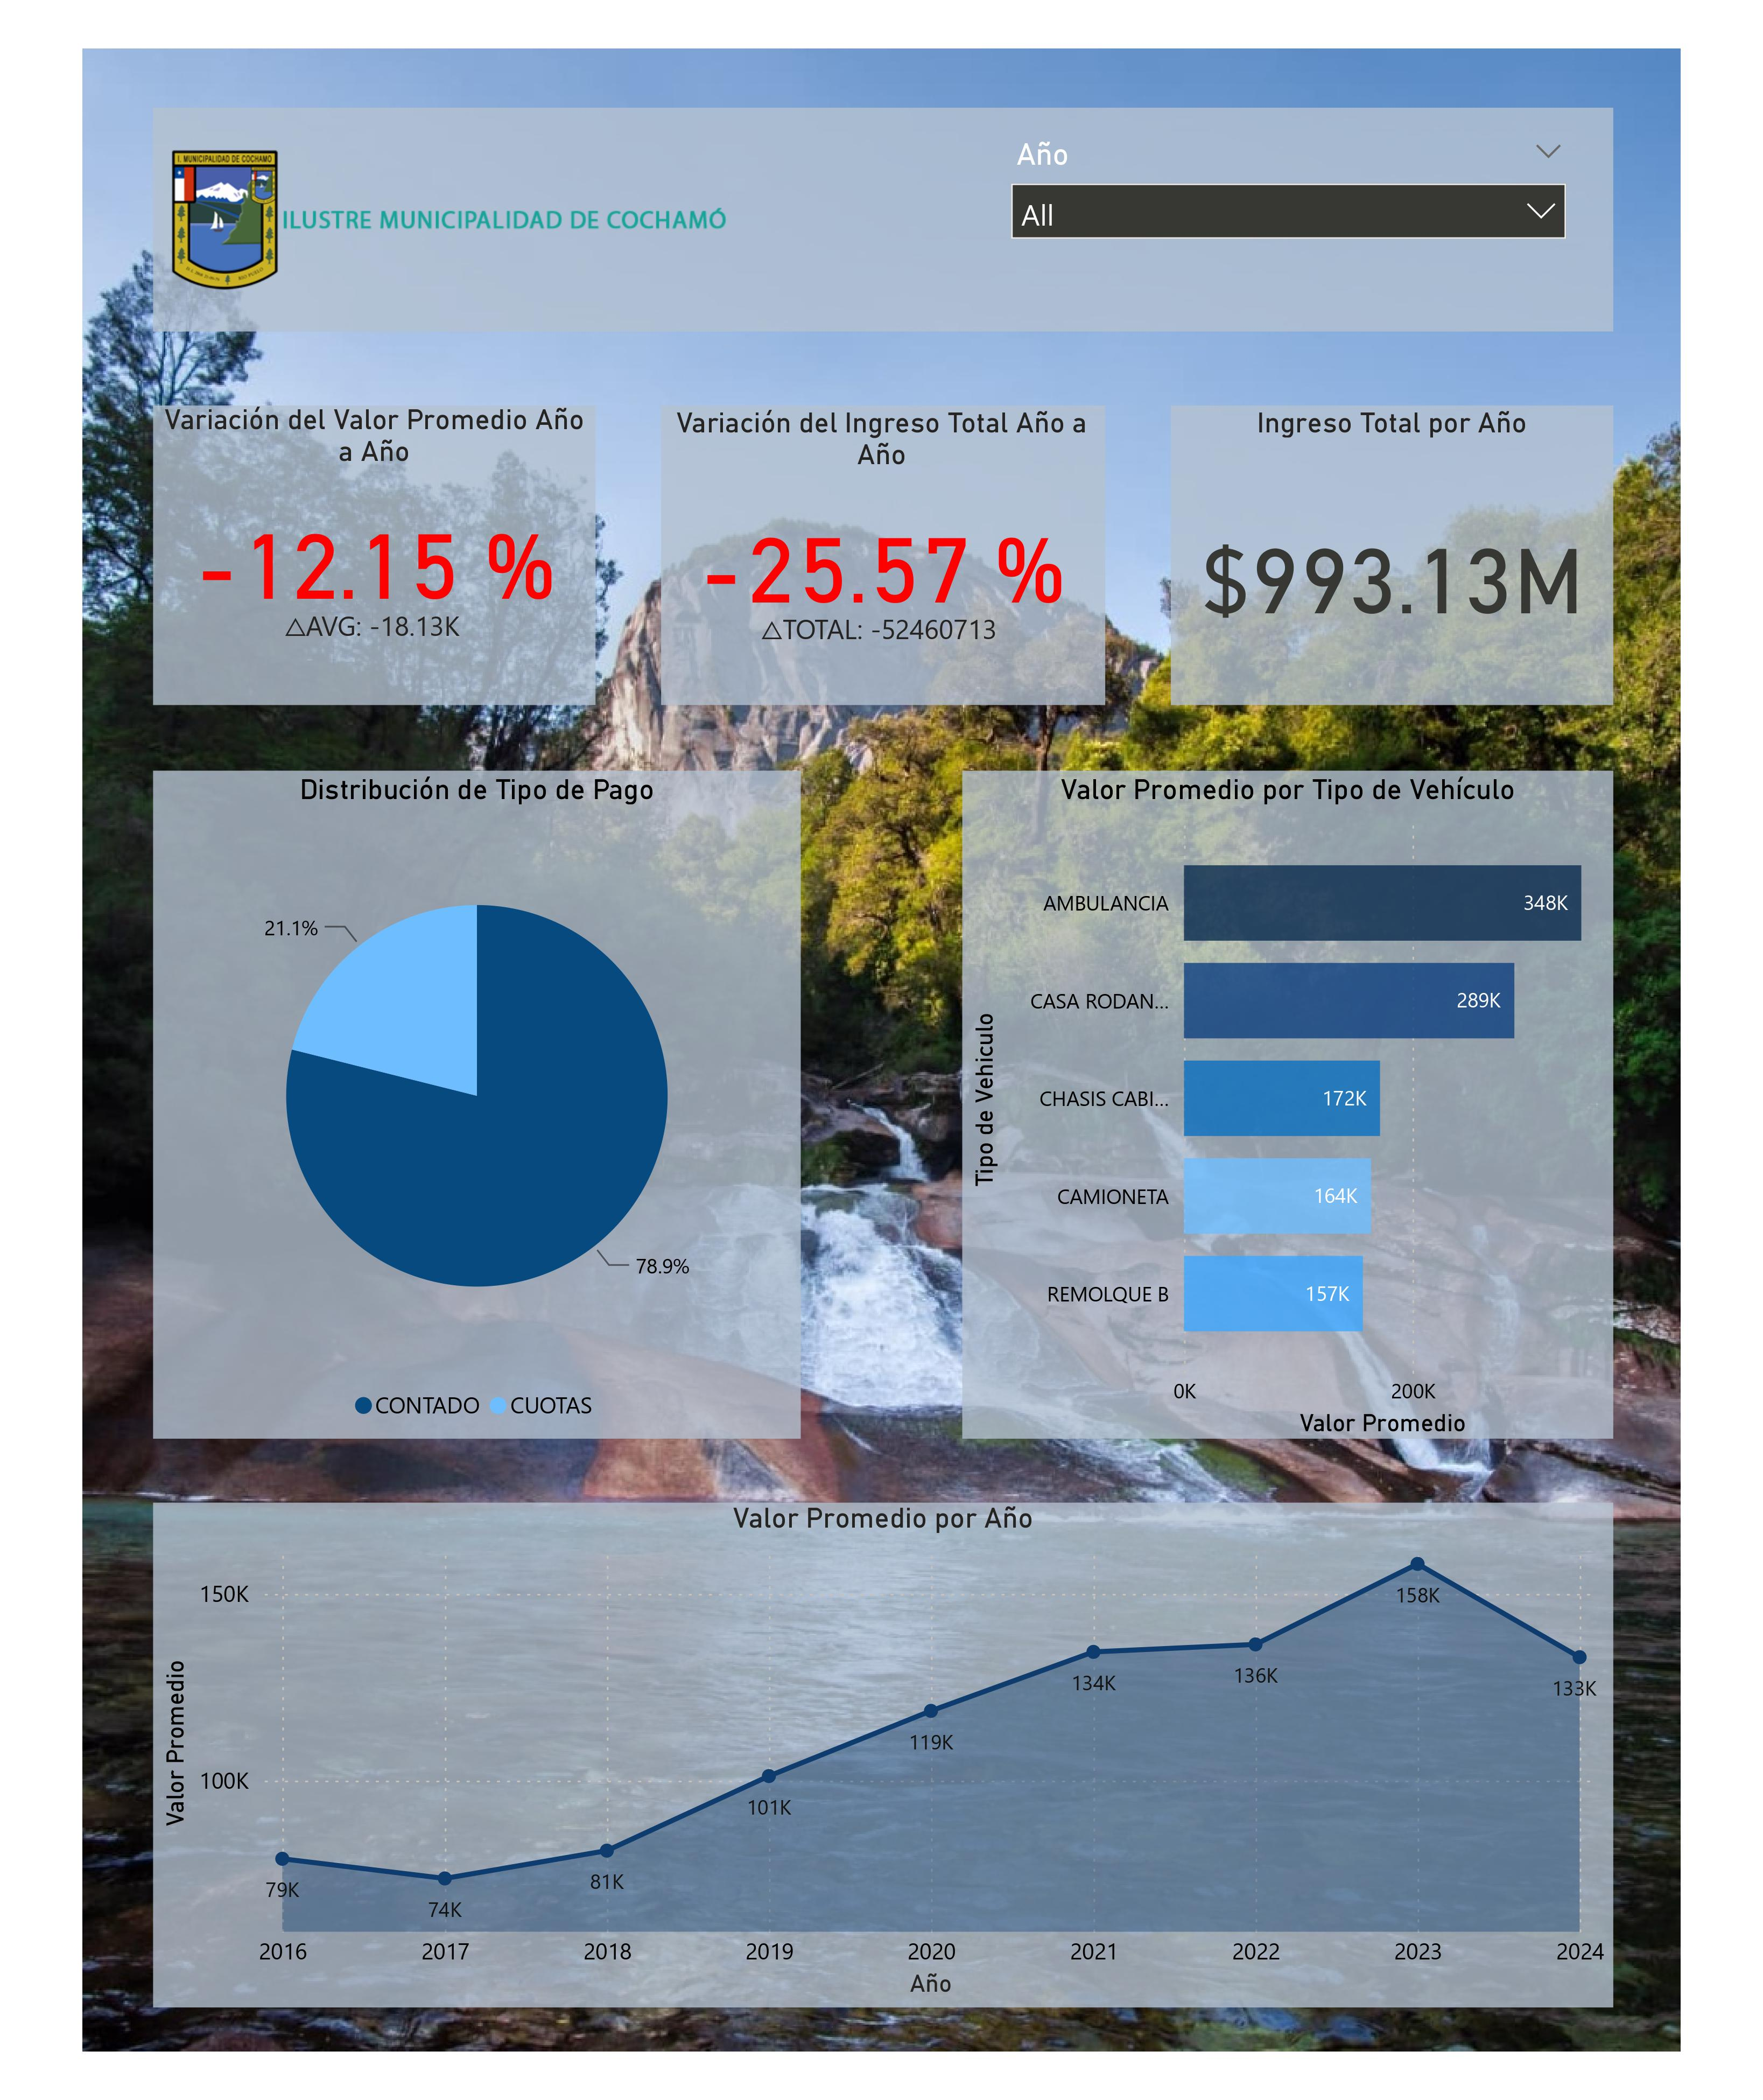

This screenshot's page, from the dashboard's own definition file:
{"tool":"powerbi","page":{"name":"Data","canvas":[1000,1200],"ordinal":1},"visuals":[{"type":"image","box":[0,0,1000.5,1200],"z":0},{"type":"shape","box":[66.5,39.9,869,133],"z":1000},{"type":"shape","box":[66.5,217.2,263.1,177.3],"z":2000},{"type":"shape","box":[369.5,217.2,263.1,177.3],"z":3000},{"type":"shape","box":[672.4,217.2,263.1,177.3],"z":4000},{"type":"shape","box":[66.5,434.5,385.7,396.1],"z":5000},{"type":"shape","box":[548.3,434.5,387.2,396.1],"z":6000},{"type":"shape","box":[66.5,869,869,300],"z":7000},{"type":"image","box":[66.7,40,351.7,133.3],"z":8000},{"type":"slicer","fields":{"Values":["Total_Data.Date"]},"box":[566.7,51.7,350,108.3],"z":9000},{"type":"kpi","title":"Variación del Valor Promedio Año a Año","fields":{"Indicator":["Total_Data.% AVG CY - PY"],"TrendLine":["Total_Data.Date"],"Goal":["Total_Data.CY - PY"]},"box":[66.7,215,263.3,178.3],"z":10000},{"type":"kpi","title":"Variación del Ingreso Total Año a Año","fields":{"Indicator":["Total_Data.% SUM CY - PY"],"TrendLine":["Total_Data.Date"],"Goal":["Total_Data.SUM CY - PY"]},"box":[368.3,216.7,263.3,178.3],"z":11000},{"type":"card","title":"Ingreso Total por Año","fields":{"Values":["Total_Data.SUM Total CY"]},"box":[671.7,216.7,263.3,176.7],"z":12000},{"type":"pieChart","title":"Distribución de Tipo de Pago","fields":{"Category":["Total_Data.Forma de Pago"],"Y":["CountNonNull(Total_Data.Forma de Pago)"]},"box":[66.7,435,385,395],"z":13000},{"type":"clusteredBarChart","title":"Valor Promedio por Tipo de Vehículo","fields":{"Category":["Total_Data.Tipo de Vehiculo"],"Y":["Avg(Total_Data.Valor Total)"]},"box":[548.3,435,386.7,400],"z":14000},{"type":"areaChart","title":"Valor Promedio por Año","fields":{"Category":["Total_Data.Date.Variation.Date Hierarchy.Year","Total_Data.Date.Variation.Date Hierarchy.Quarter","Total_Data.Date.Variation.Date Hierarchy.Month","Total_Data.Date.Variation.Date Hierarchy.Day"],"Y":["Avg(Total_Data.Valor Total)"]},"box":[66.7,868.3,868.3,300],"z":15000}]}

Visuals, with their boxes in screenshot pixels (x1, y1, x2, y2):
image: box(40, 40, 1723, 2060)
shape: box(152, 108, 1614, 331)
shape: box(152, 406, 595, 704)
shape: box(662, 406, 1105, 704)
shape: box(1171, 406, 1614, 704)
shape: box(152, 772, 801, 1438)
shape: box(963, 772, 1614, 1438)
shape: box(152, 1503, 1614, 2007)
image: box(152, 108, 744, 332)
slicer - Total_Data.Date: box(994, 128, 1583, 310)
"Variación del Valor Promedio Año a Año" kpi: box(152, 402, 595, 702)
"Variación del Ingreso Total Año a Año" kpi: box(660, 405, 1103, 705)
"Ingreso Total por Año" card: box(1170, 405, 1613, 702)
"Distribución de Tipo de Pago" pieChart: box(152, 772, 800, 1437)
"Valor Promedio por Tipo de Vehículo" clusteredBarChart: box(963, 772, 1613, 1445)
"Valor Promedio por Año" areaChart: box(152, 1501, 1613, 2006)
